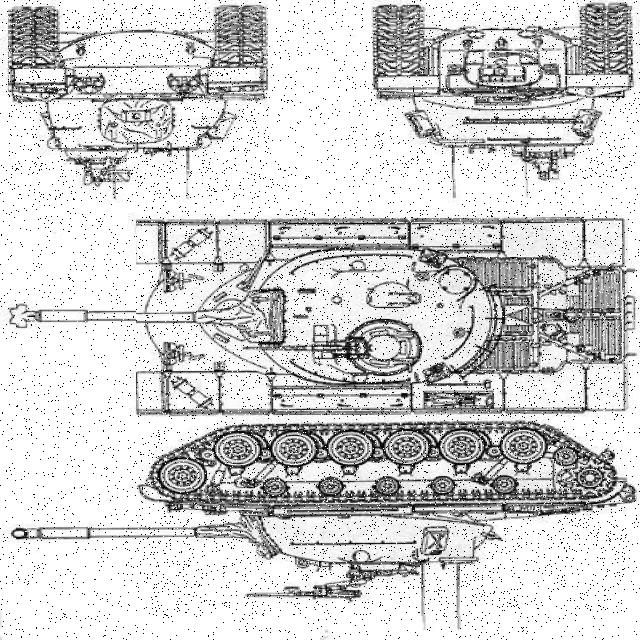MIL_MBT: (137, 210, 626, 416), (141, 430, 625, 615), (9, 8, 269, 198), (374, 11, 635, 178)
